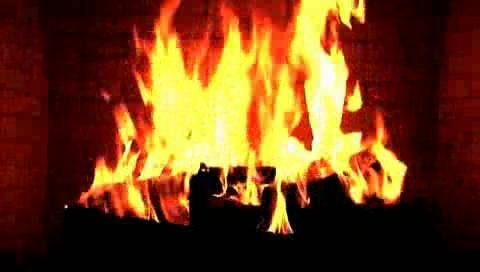fire: (123, 5, 408, 217)
